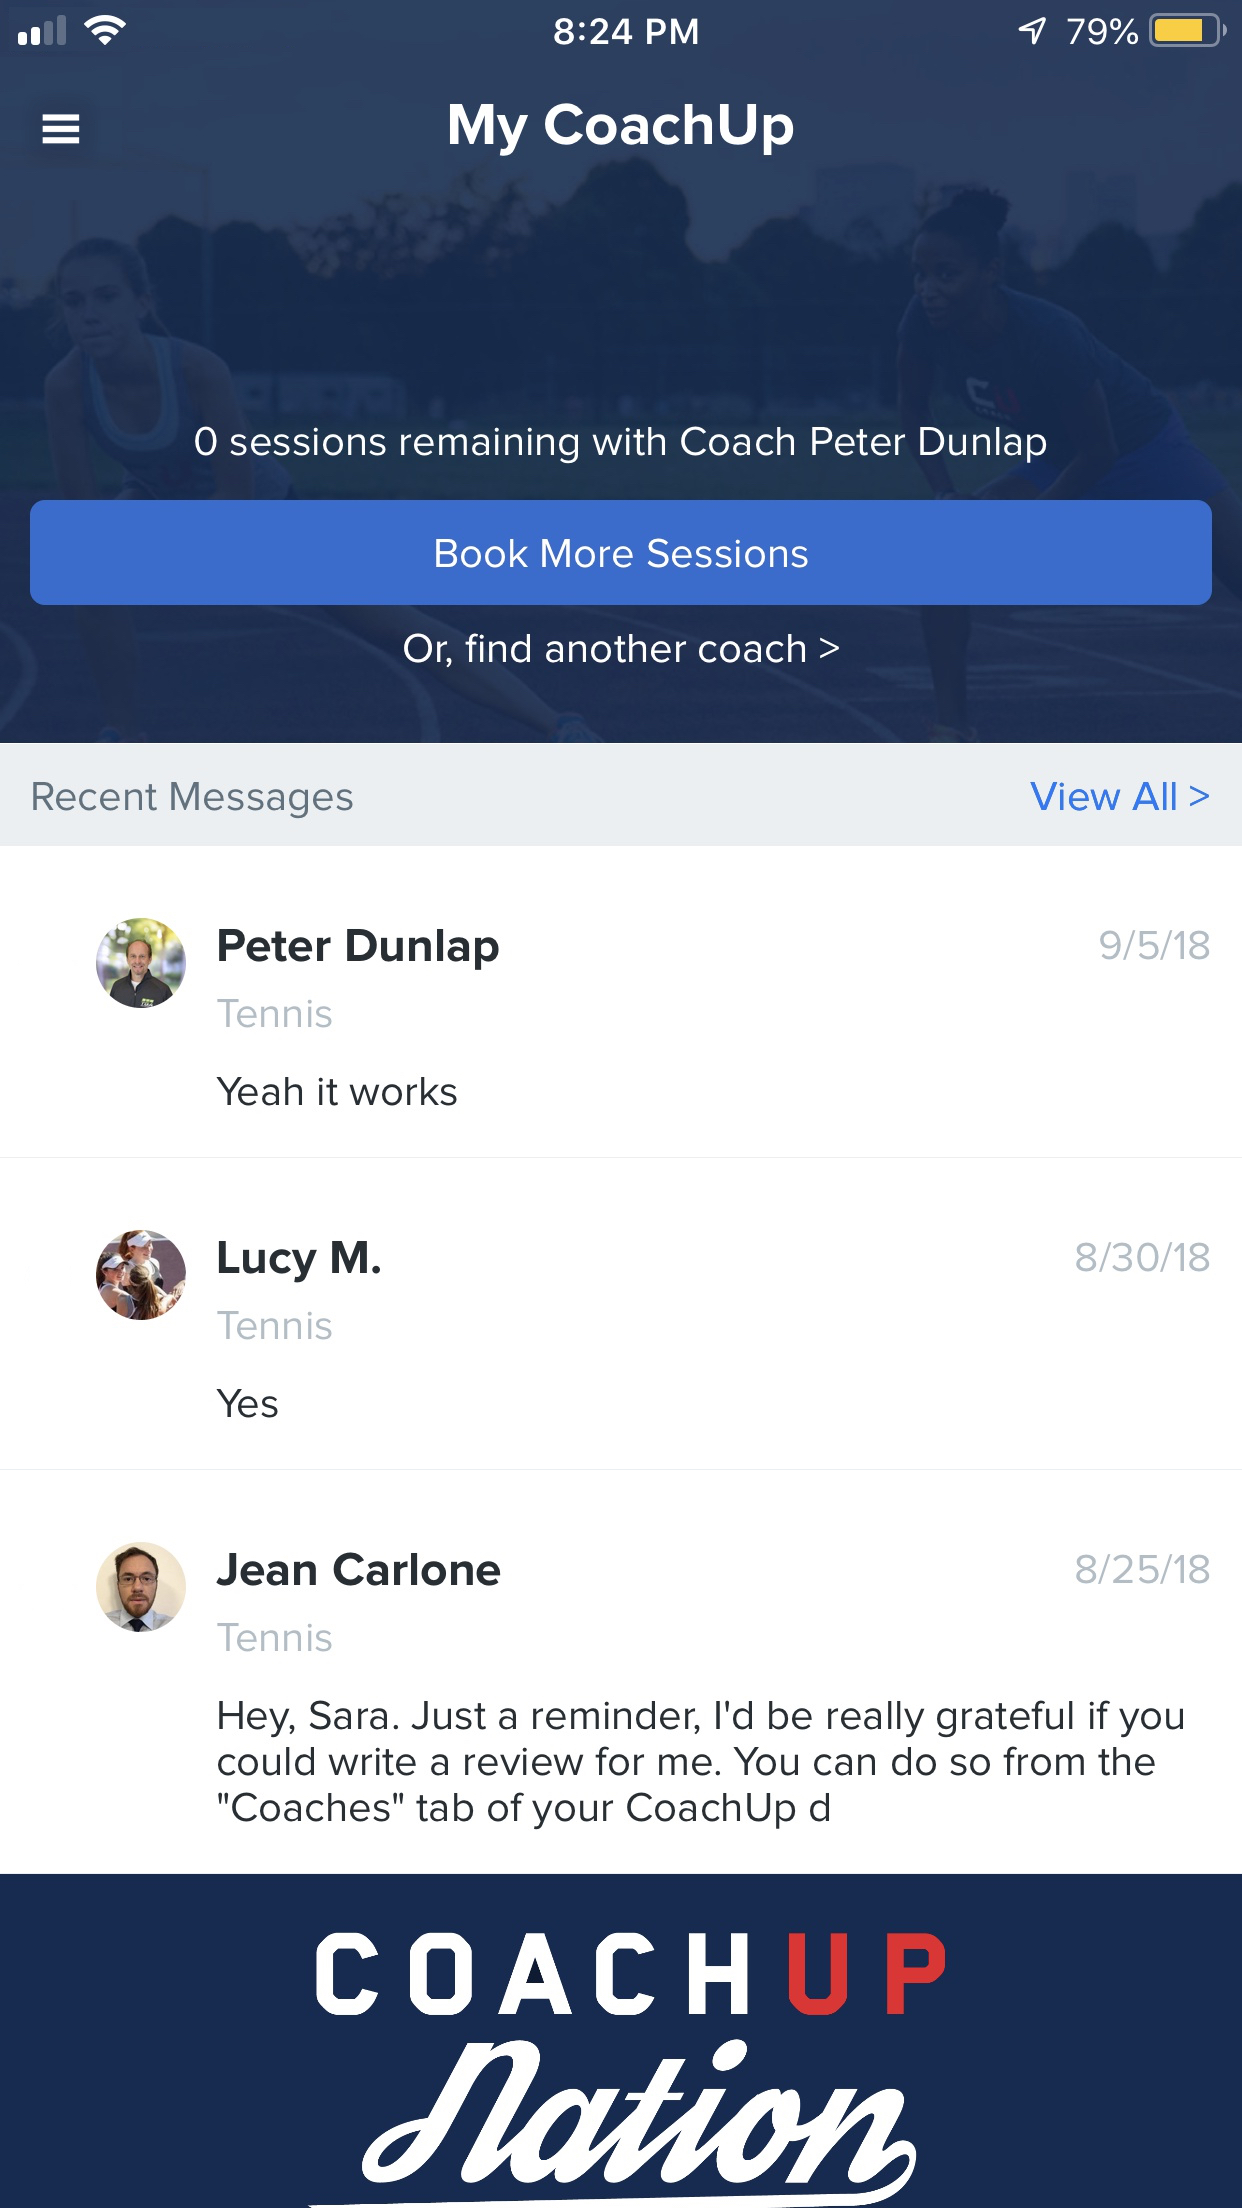Icon: (42, 114, 82, 147), (1189, 786, 1210, 808), (819, 638, 840, 660)
Image: (2, 2, 1242, 745), (315, 1930, 946, 2208), (96, 1541, 188, 1633), (96, 1228, 188, 1321), (96, 917, 188, 1008)
Text: (218, 1700, 1184, 1830), (194, 428, 1046, 466), (449, 102, 795, 158), (403, 632, 805, 669), (33, 783, 353, 820), (218, 928, 500, 971), (215, 1551, 502, 1586), (215, 1077, 458, 1107), (218, 1240, 382, 1284), (1030, 781, 1177, 811), (1075, 1240, 1210, 1272), (1075, 1553, 1210, 1585), (217, 999, 334, 1030), (217, 1310, 334, 1341), (217, 1623, 334, 1653), (1099, 930, 1210, 961), (217, 1388, 281, 1419)
TextButton: (30, 500, 1213, 607)
UpperTaskBar: (2, 2, 1242, 49)
